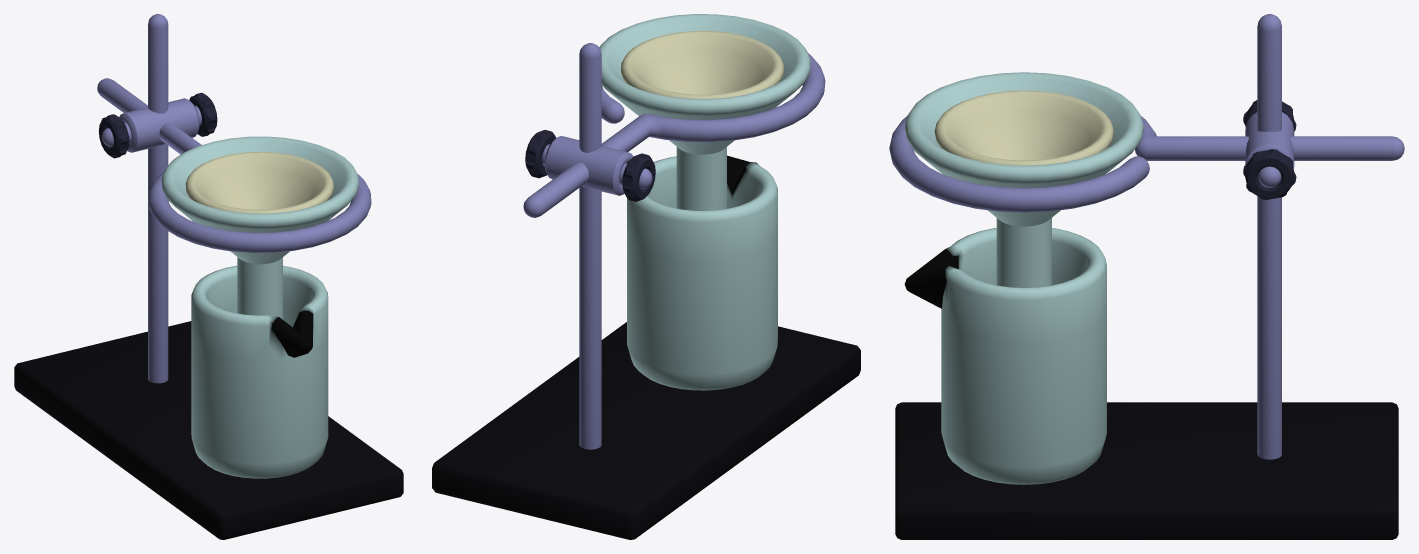
The model's file is LastLuna_Model_Station_Desalter.fbx.
3 renders of one model, left to right at view 1: azimuth 30°, elevation 25°; view 2: azimuth 150°, elevation 25°; view 3: azimuth 270°, elevation 25°, orthographic. The views are drawn at different scales.
Visible parts, largest first — view 1: Stand_Base001, Beaker001, Funnel001, Paper001, Cylinder013, Stand_Pole001, Stand_Pole_Fixture_Metal001, Stand_Pole_Fixture_Plastic001, Stand_Pole_Fixture_Plastic002; view 2: Stand_Base001, Beaker001, Funnel001, Paper001, Stand_Pole001, Cylinder013, Stand_Pole_Fixture_Metal001, Stand_Pole_Fixture_Plastic001, Stand_Pole_Fixture_Plastic002; view 3: Stand_Base001, Beaker001, Funnel001, Cylinder013, Paper001, Stand_Pole001, Stand_Pole_Fixture_Plastic002, Stand_Pole_Fixture_Metal001.
Boxes of the visible parts, x1=… form: Stand_Base001: x1=14, y1=321, x2=403, y2=539; Beaker001: x1=191, y1=265, x2=328, y2=478; Funnel001: x1=161, y1=136, x2=358, y2=319; Paper001: x1=185, y1=152, x2=333, y2=213; Cylinder013: x1=97, y1=78, x2=371, y2=252; Stand_Pole001: x1=148, y1=14, x2=168, y2=383; Stand_Pole_Fixture_Metal001: x1=119, y1=98, x2=199, y2=152; Stand_Pole_Fixture_Plastic001: x1=98, y1=114, x2=129, y2=158; Stand_Pole_Fixture_Plastic002: x1=189, y1=92, x2=217, y2=136; Stand_Base001: x1=432, y1=322, x2=860, y2=539; Beaker001: x1=627, y1=155, x2=777, y2=390; Funnel001: x1=599, y1=14, x2=810, y2=210; Paper001: x1=621, y1=31, x2=783, y2=98; Stand_Pole001: x1=579, y1=43, x2=601, y2=449; Cylinder013: x1=523, y1=53, x2=825, y2=217; Stand_Pole_Fixture_Metal001: x1=544, y1=136, x2=633, y2=195; Stand_Pole_Fixture_Plastic001: x1=622, y1=153, x2=655, y2=201; Stand_Pole_Fixture_Plastic002: x1=525, y1=130, x2=555, y2=178; Stand_Base001: x1=895, y1=402, x2=1398, y2=539; Beaker001: x1=904, y1=228, x2=1106, y2=484; Funnel001: x1=905, y1=72, x2=1143, y2=287; Cylinder013: x1=889, y1=116, x2=1404, y2=212; Paper001: x1=934, y1=90, x2=1113, y2=165; Stand_Pole001: x1=1257, y1=14, x2=1281, y2=459; Stand_Pole_Fixture_Plastic002: x1=1243, y1=149, x2=1296, y2=199; Stand_Pole_Fixture_Metal001: x1=1245, y1=112, x2=1294, y2=168.
Size of the model in its own units: 110 by 212 by 210.
